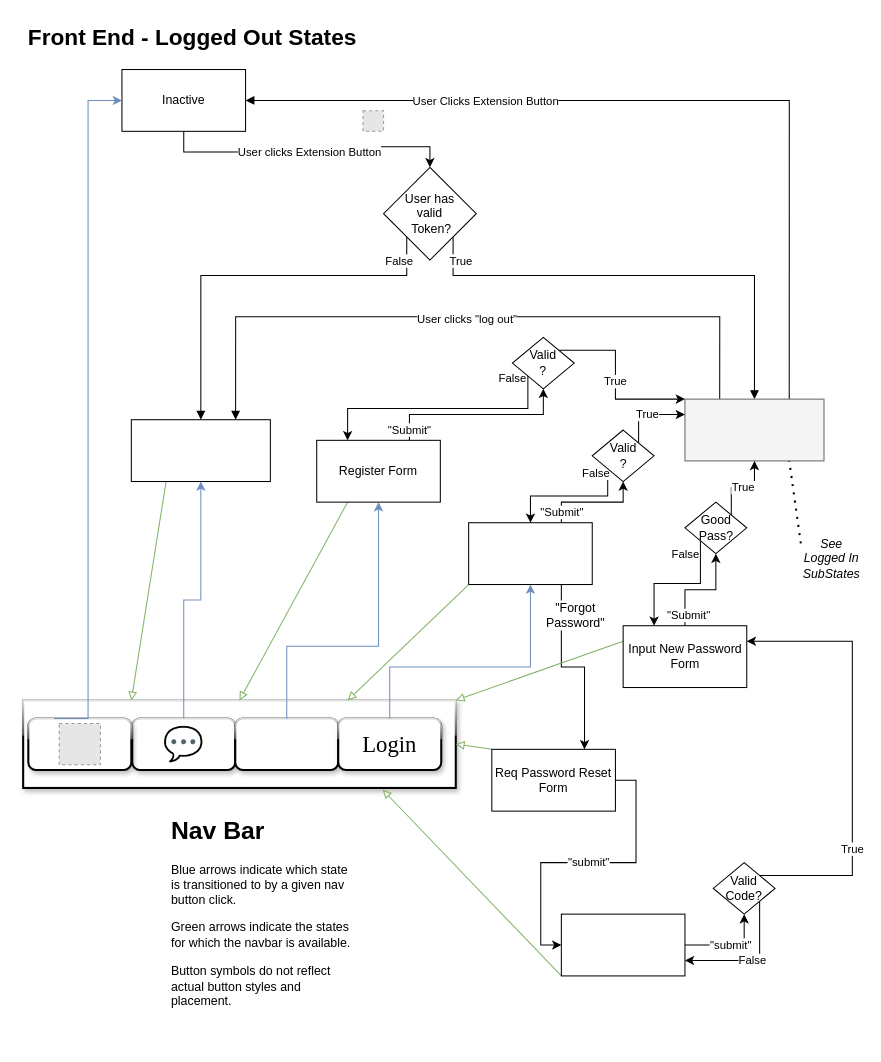
Image size: 881x1062. Some labels were removed from this diagram. Grey dashed boxes stand in for pictures. The centre of each missing label's shape, as x and y in pixels:
"Logged In a.k.a Comments View" belongs at (x=754, y=429).
"Logged Out a.k.a. Comments Display" belongs at (x=200, y=450).
"Login Form" belongs at (x=530, y=553).
"Register" belongs at (x=287, y=745).
"Submit Reset Code Form" belongs at (x=622, y=944).
